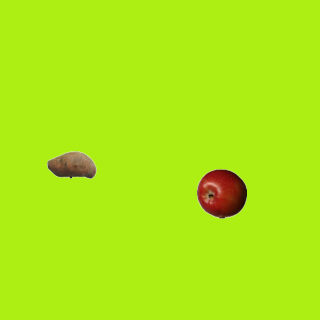Apple Braeburn: (196, 168, 246, 218)
Potato Sweet: (46, 139, 96, 189)
